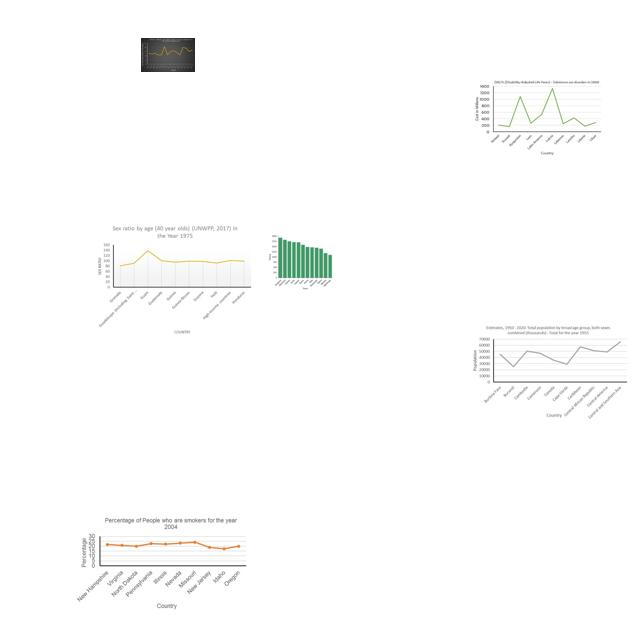Graph: (95, 223, 253, 337), (75, 513, 250, 614), (467, 323, 629, 420), (472, 77, 603, 157), (268, 233, 334, 290), (141, 38, 195, 72)
